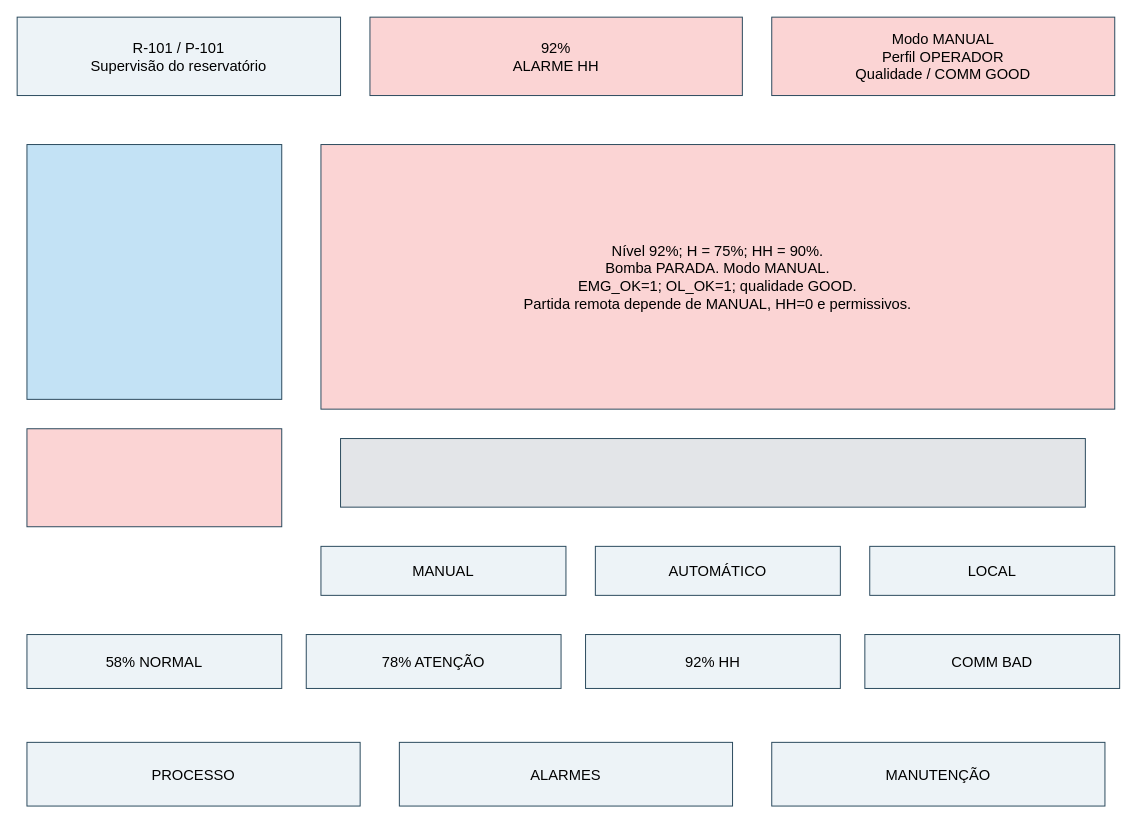
Some shapes in this 1137 by 823 pixel diagram are drawn without their labels. Each missing label, with the centre of its shape:
COMANDOS BLOQUEADOS HH ATIVO: the point at 712,472
P-101 Retorno PARADA CMD e STATUS separados: the point at 154,477
R-101 Nível de 0 a 100% 92%: the point at 154,271
